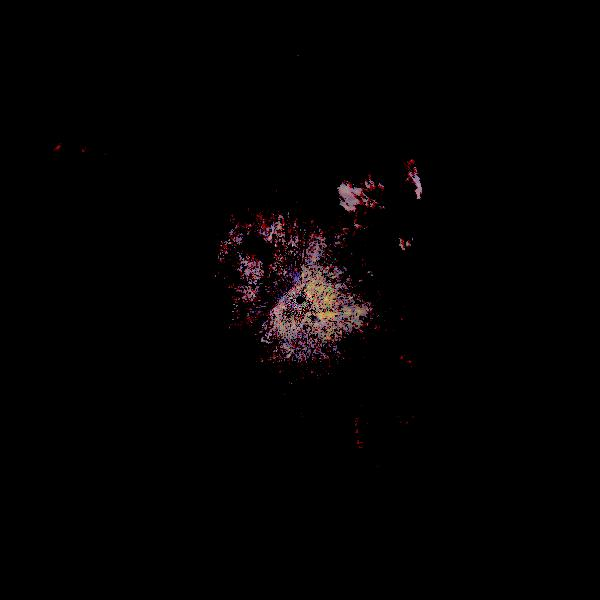roost: (328, 328, 517, 517)
